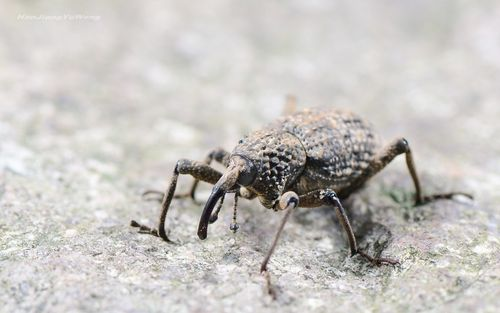Curculionidae: (129, 94, 473, 301)
